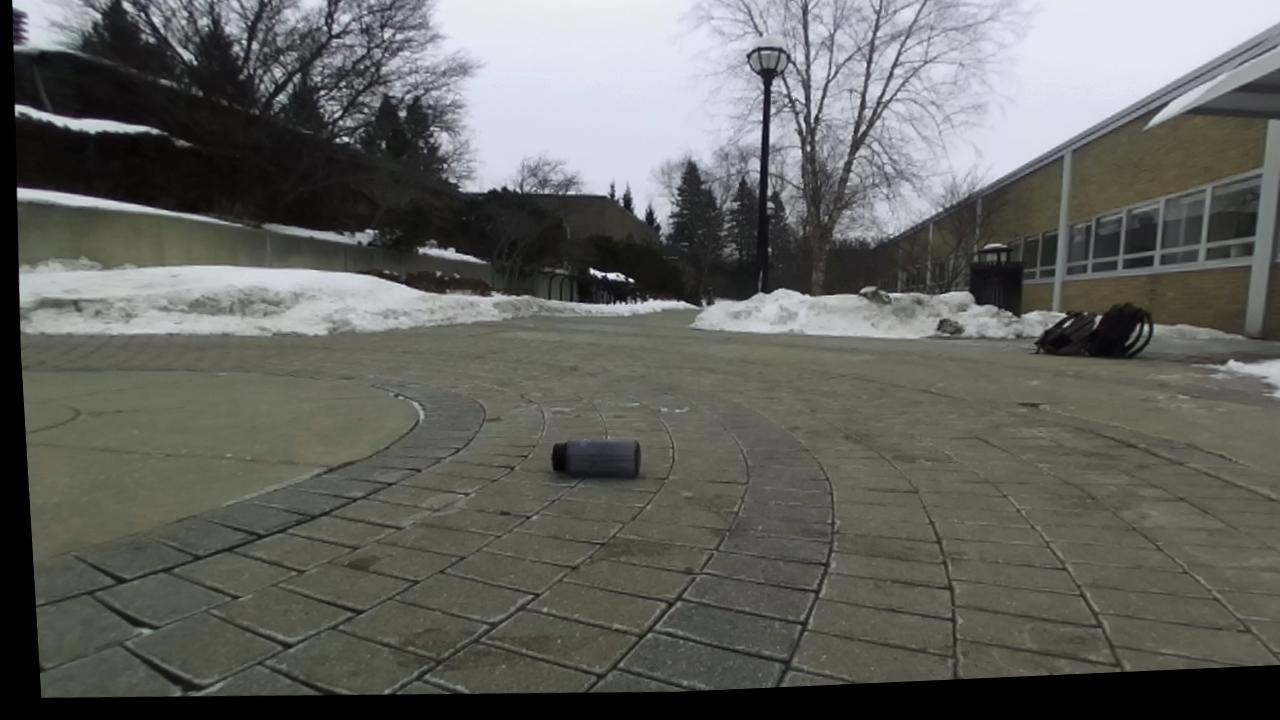bottle: (552, 440, 640, 477)
